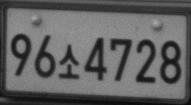2: (134, 37, 157, 83)
4: (85, 36, 107, 80)
6: (33, 33, 56, 78)
7: (109, 37, 132, 81)
8: (158, 39, 182, 84)
9: (9, 31, 32, 76)
소: (58, 43, 80, 80)
